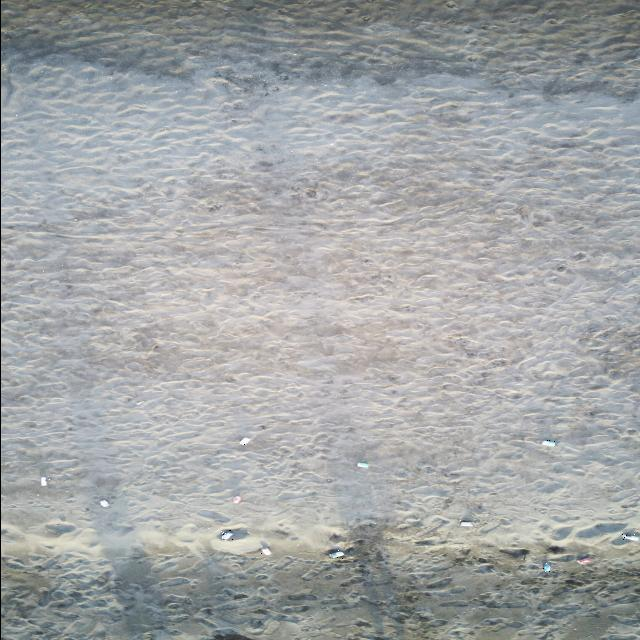Garbage: (199, 510, 230, 523), (45, 522, 75, 535), (219, 528, 247, 540), (500, 547, 528, 559), (327, 547, 344, 556), (620, 532, 639, 540), (576, 555, 592, 564), (260, 544, 271, 555), (220, 529, 232, 539), (542, 439, 556, 446), (40, 475, 47, 486), (356, 460, 367, 467), (460, 520, 472, 526), (232, 495, 240, 503), (100, 499, 108, 507), (543, 562, 550, 571), (240, 437, 249, 444)
